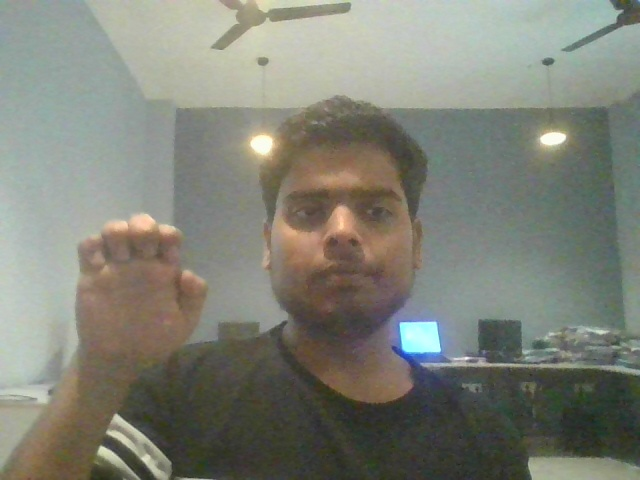C: (45, 192, 227, 381)
